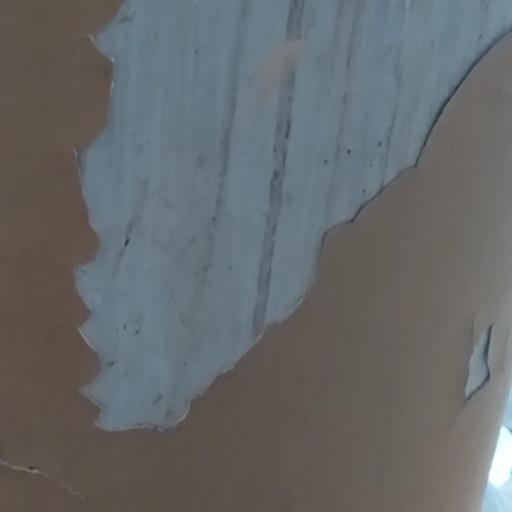peeling: (56, 0, 512, 468)
